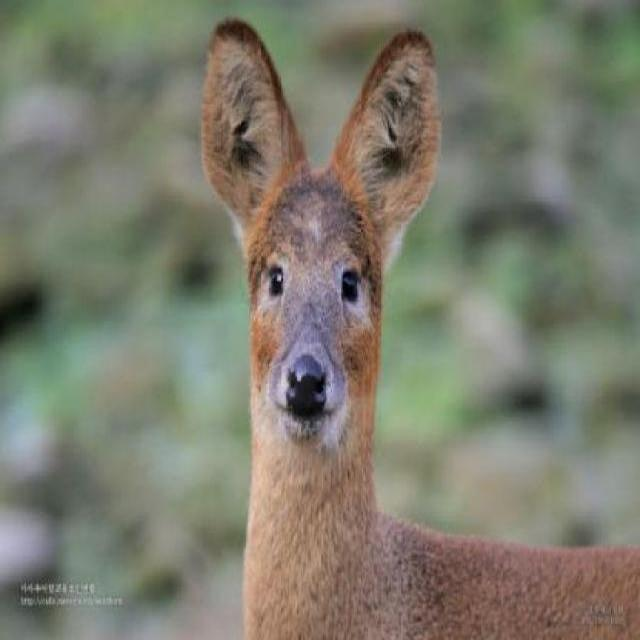deer: (195, 10, 638, 640)
